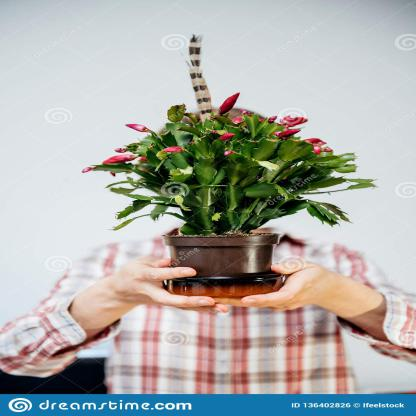Aglonema: (109, 95, 391, 251)
